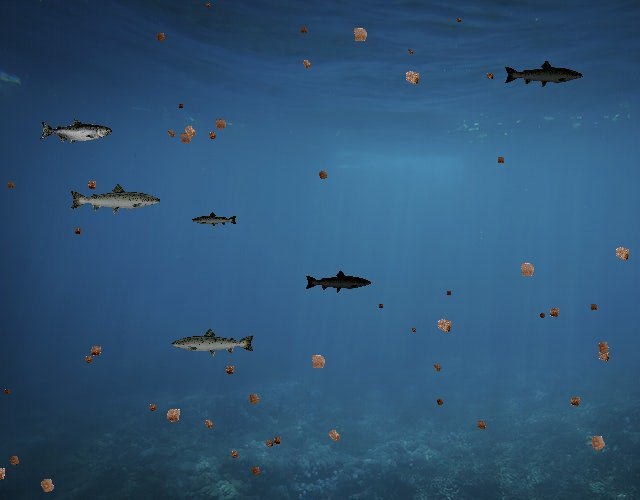Fish: (68, 183, 162, 217), (170, 327, 256, 358), (503, 59, 584, 88), (39, 118, 112, 145), (304, 269, 372, 294), (191, 211, 238, 228)
Pellet: (159, 402, 187, 430), (178, 119, 203, 144), (322, 424, 346, 448), (4, 450, 25, 471), (163, 125, 180, 142), (80, 351, 96, 367), (482, 69, 497, 83), (536, 309, 549, 322), (202, 0, 212, 10)
